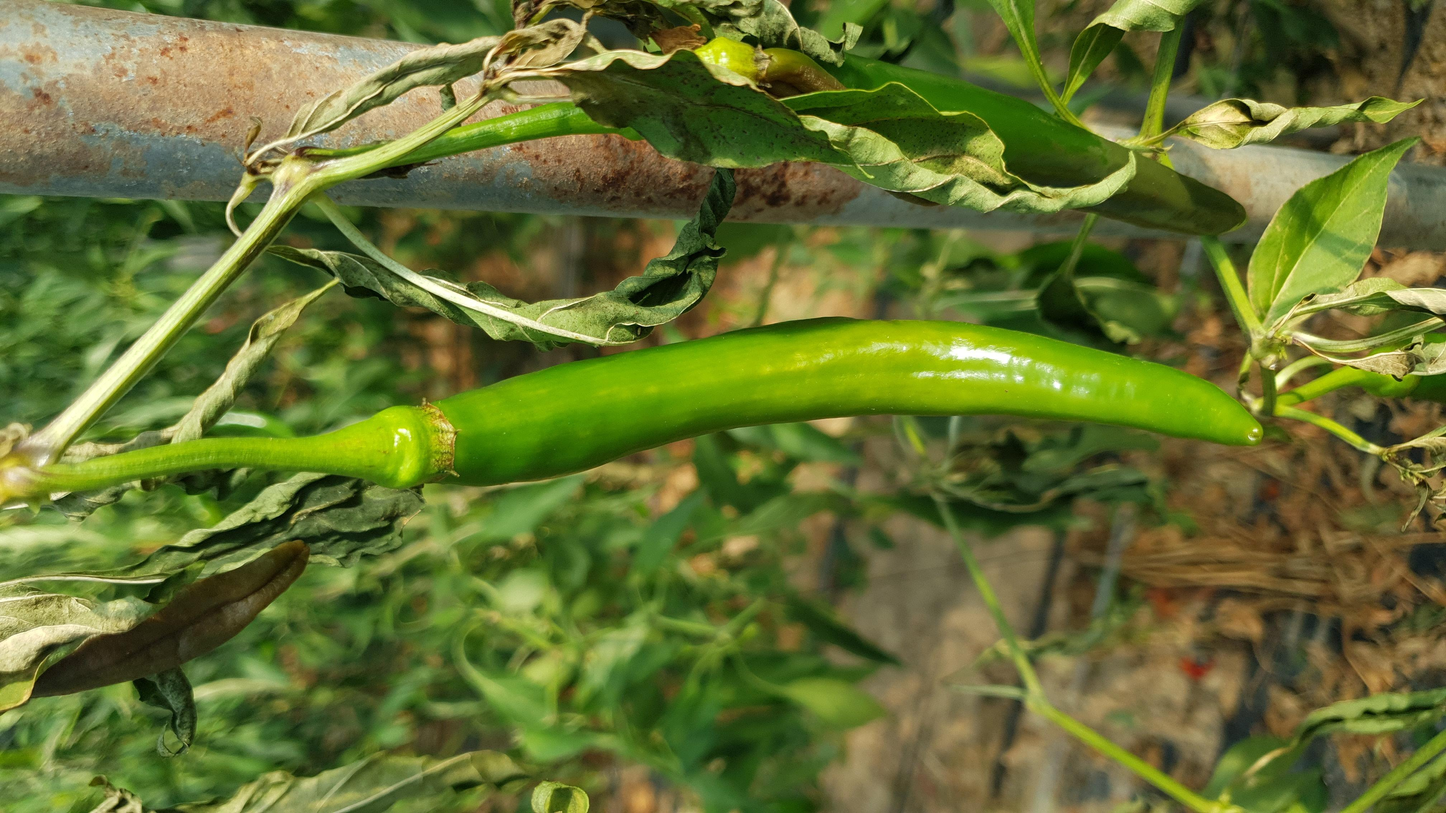Buah Cabai Sehat: (325, 312, 1268, 495)
